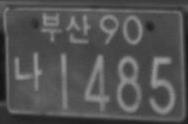0: (122, 14, 143, 45)
1: (50, 52, 78, 108)
4: (83, 53, 111, 113)
5: (148, 55, 177, 116)
8: (115, 55, 141, 114)
9: (98, 13, 120, 45)
나: (13, 51, 42, 90)
부산_O: (41, 11, 90, 44)
